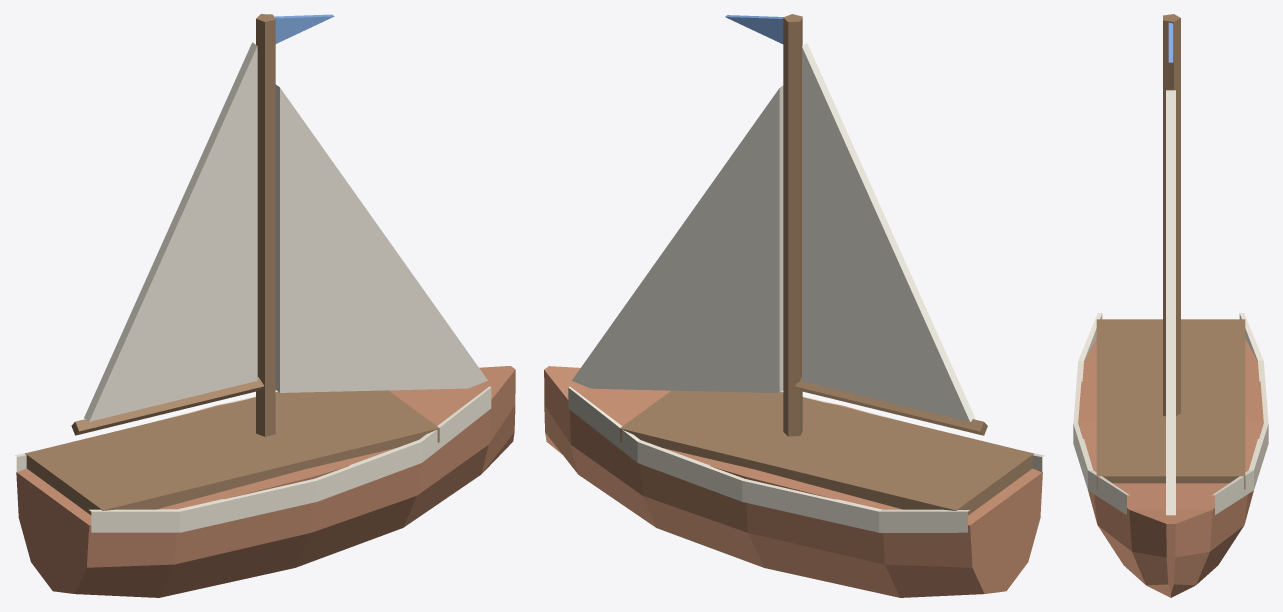
The model's file is boat.glb.
The picture shows the model from 3 angles, left to right: view 1: azimuth 30°, elevation 25°; view 2: azimuth 150°, elevation 25°; view 3: azimuth 270°, elevation 25°; orthographic projection. The views are drawn at different scales.
Visible parts, largest first — view 1: boat; view 2: boat; view 3: boat.
Part boxes in pixels (box(x1,y1,x2,y2)): boat: box(15, 14, 515, 597); boat: box(544, 14, 1044, 597); boat: box(1073, 14, 1268, 597).
Bounding box in the file's own units: 0.41 × 0.465 × 0.158.
